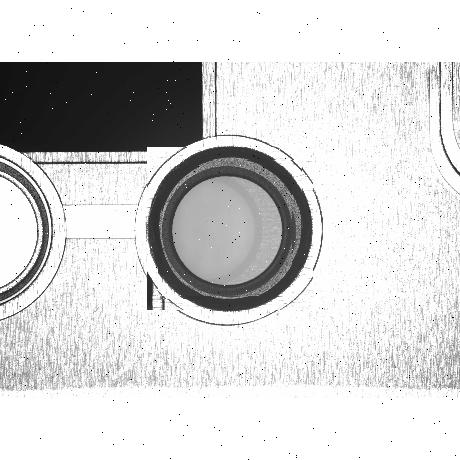Hole: (147, 147, 313, 311)
Hole2: (159, 159, 301, 301)
Hole3: (162, 166, 292, 296)
Hole4: (172, 176, 282, 286)
